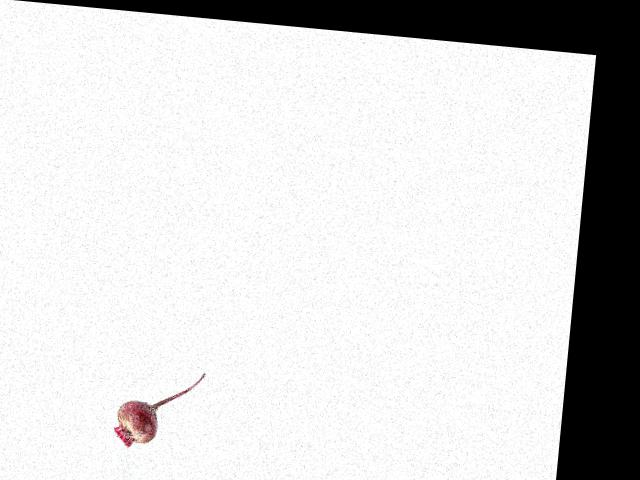beet: (112, 365, 206, 454)
